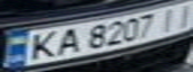0: (121, 15, 145, 43)
2: (106, 18, 127, 47)
7: (136, 11, 163, 38)
8: (84, 21, 109, 51)
A: (51, 25, 84, 56)
I: (154, 4, 187, 33), (169, 1, 193, 29)
K: (18, 29, 63, 62)
